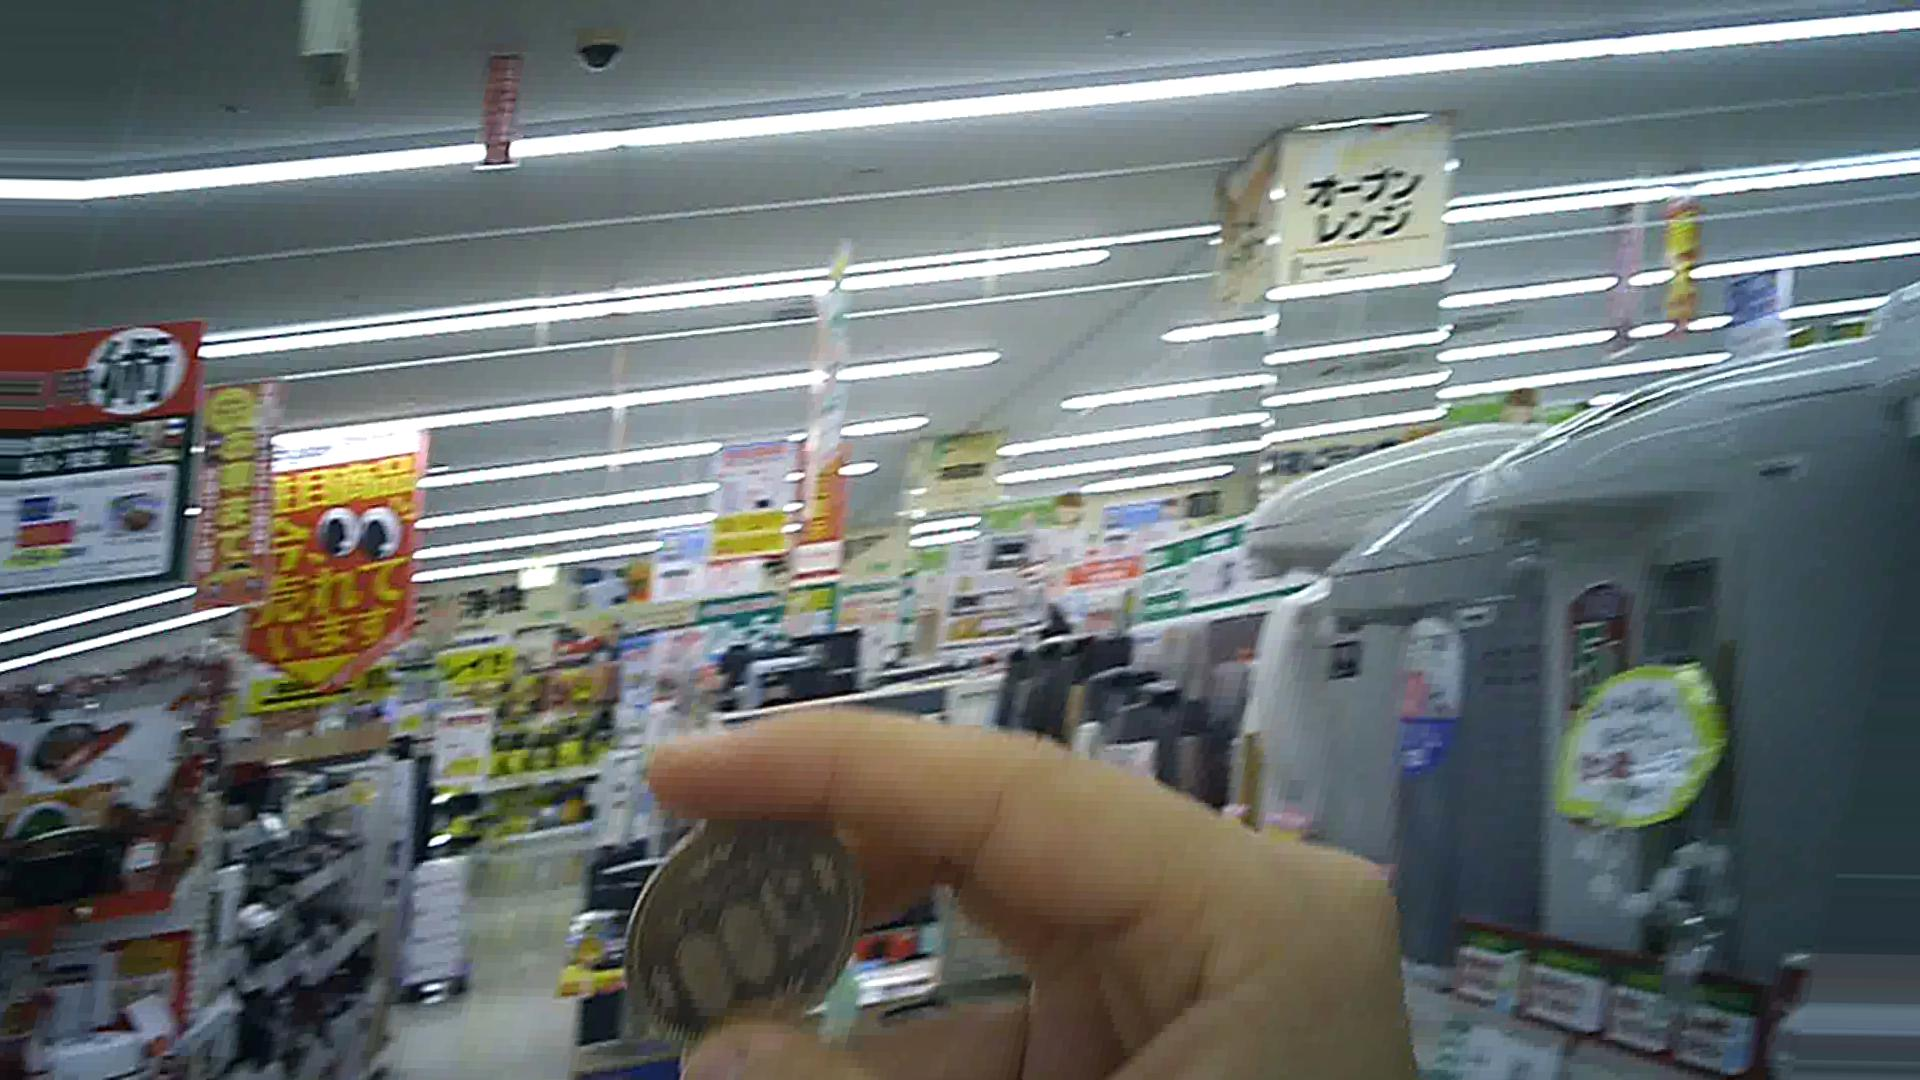500 Yen: (607, 791, 880, 1058)
